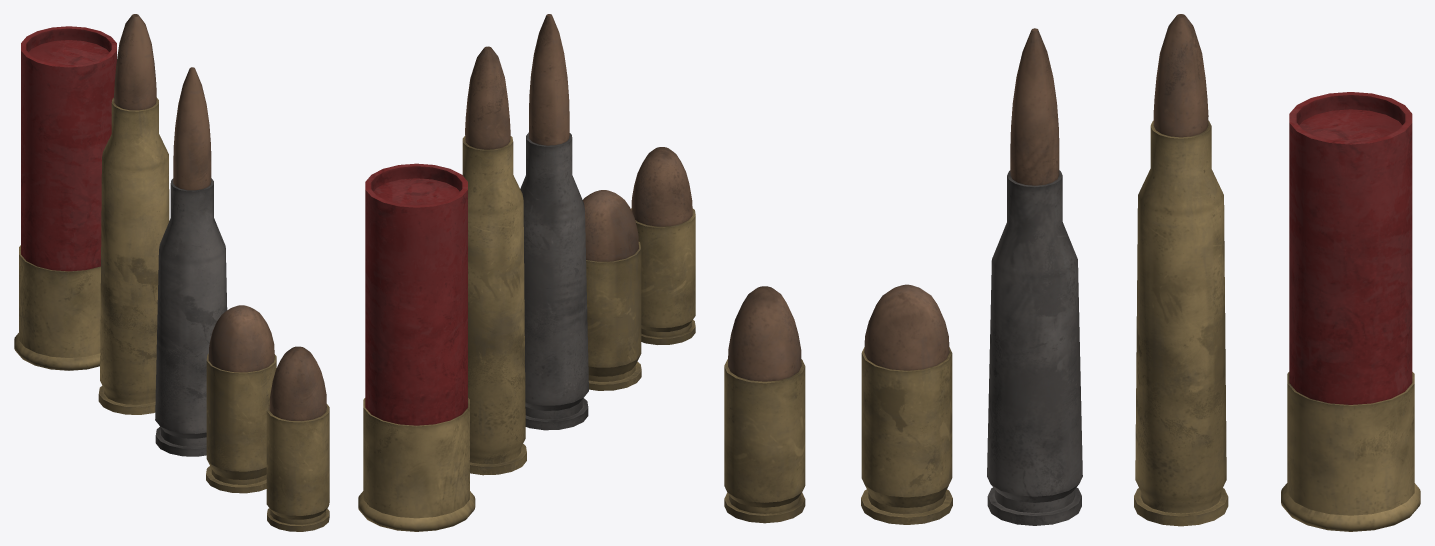
3 renders of one model, left to right at view 1: azimuth 30°, elevation 25°; view 2: azimuth 150°, elevation 25°; view 3: azimuth 270°, elevation 25°, orthographic. The views are drawn at different scales.
Visible parts, largest first — view 1: 12mm, 5.56_Bullet_Pack01_0, 5.45_Bullet_Pack01_0, 45acp, 9mm; view 2: 12mm, 5.56_Bullet_Pack01_0, 5.45_Bullet_Pack01_0, 9mm, 45acp; view 3: 12mm, 5.56_Bullet_Pack01_0, 5.45_Bullet_Pack01_0, 45acp, 9mm.
Boxes of the visible parts, x1,y1,x2,y2 form: 12mm: (14, 26, 116, 370); 5.56_Bullet_Pack01_0: (98, 14, 169, 414); 5.45_Bullet_Pack01_0: (155, 67, 227, 456); 45acp: (206, 305, 276, 493); 9mm: (266, 346, 329, 531); 12mm: (358, 163, 475, 531); 5.56_Bullet_Pack01_0: (462, 46, 526, 475); 5.45_Bullet_Pack01_0: (520, 14, 588, 430); 9mm: (631, 147, 695, 344); 45acp: (583, 190, 641, 390); 12mm: (1281, 92, 1420, 531); 5.56_Bullet_Pack01_0: (1134, 14, 1228, 526); 5.45_Bullet_Pack01_0: (987, 28, 1082, 525); 45acp: (861, 284, 952, 524); 9mm: (724, 286, 805, 523).
Size of the model in its own units: 0.2872 by 1.09 by 1.41.
1 material, 1 textured.
